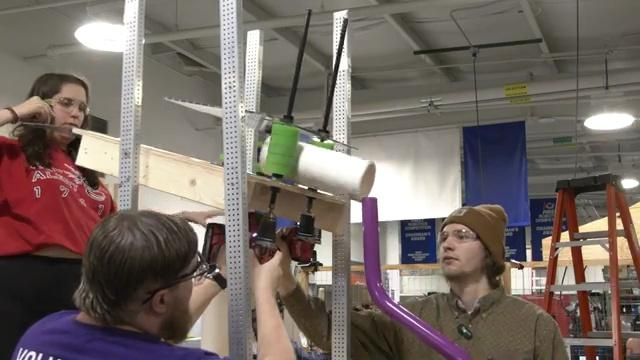CORAL: (257, 121, 376, 202)
